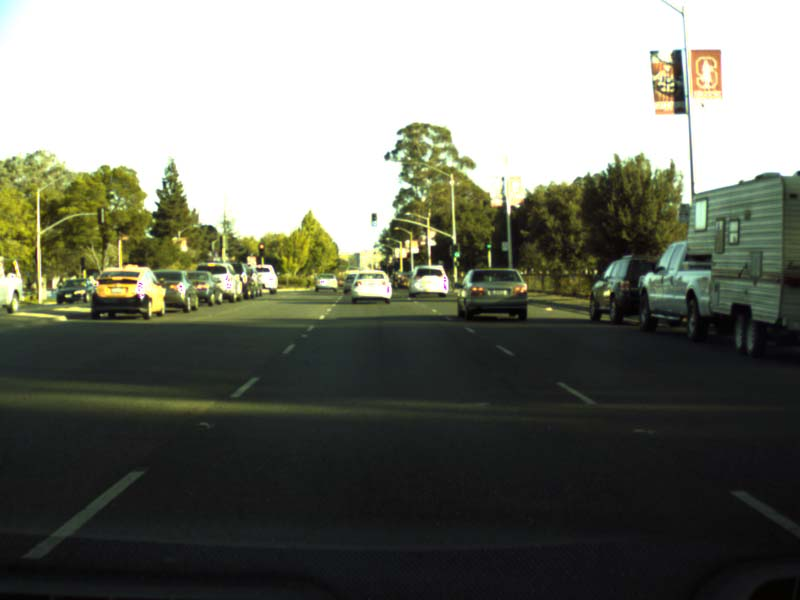Green: (452, 244, 459, 257), (372, 212, 377, 226), (486, 239, 492, 248)
Red: (258, 243, 264, 256)
